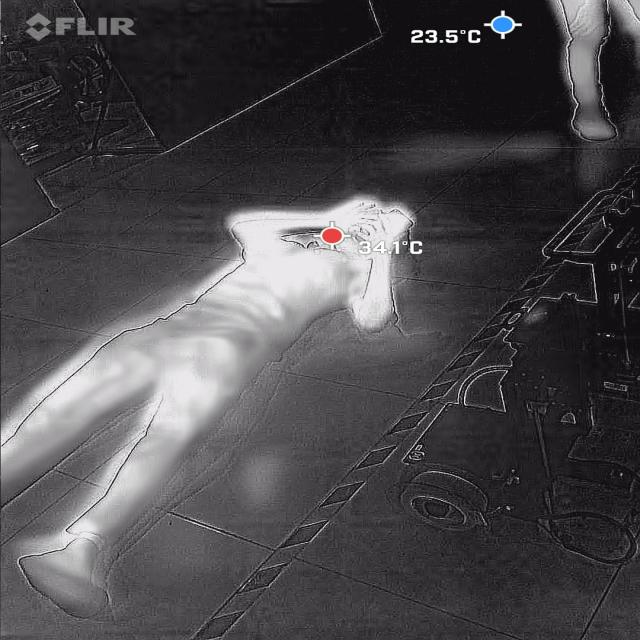Victim: (0, 195, 425, 617)
